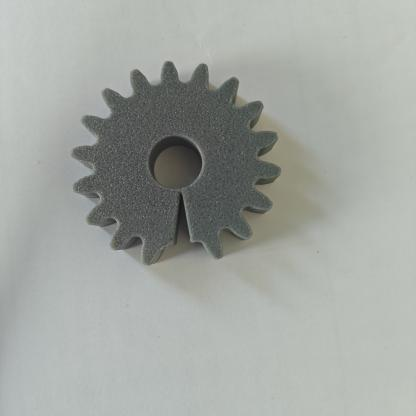defect: (131, 174, 242, 275)
gear: (64, 52, 294, 290)
